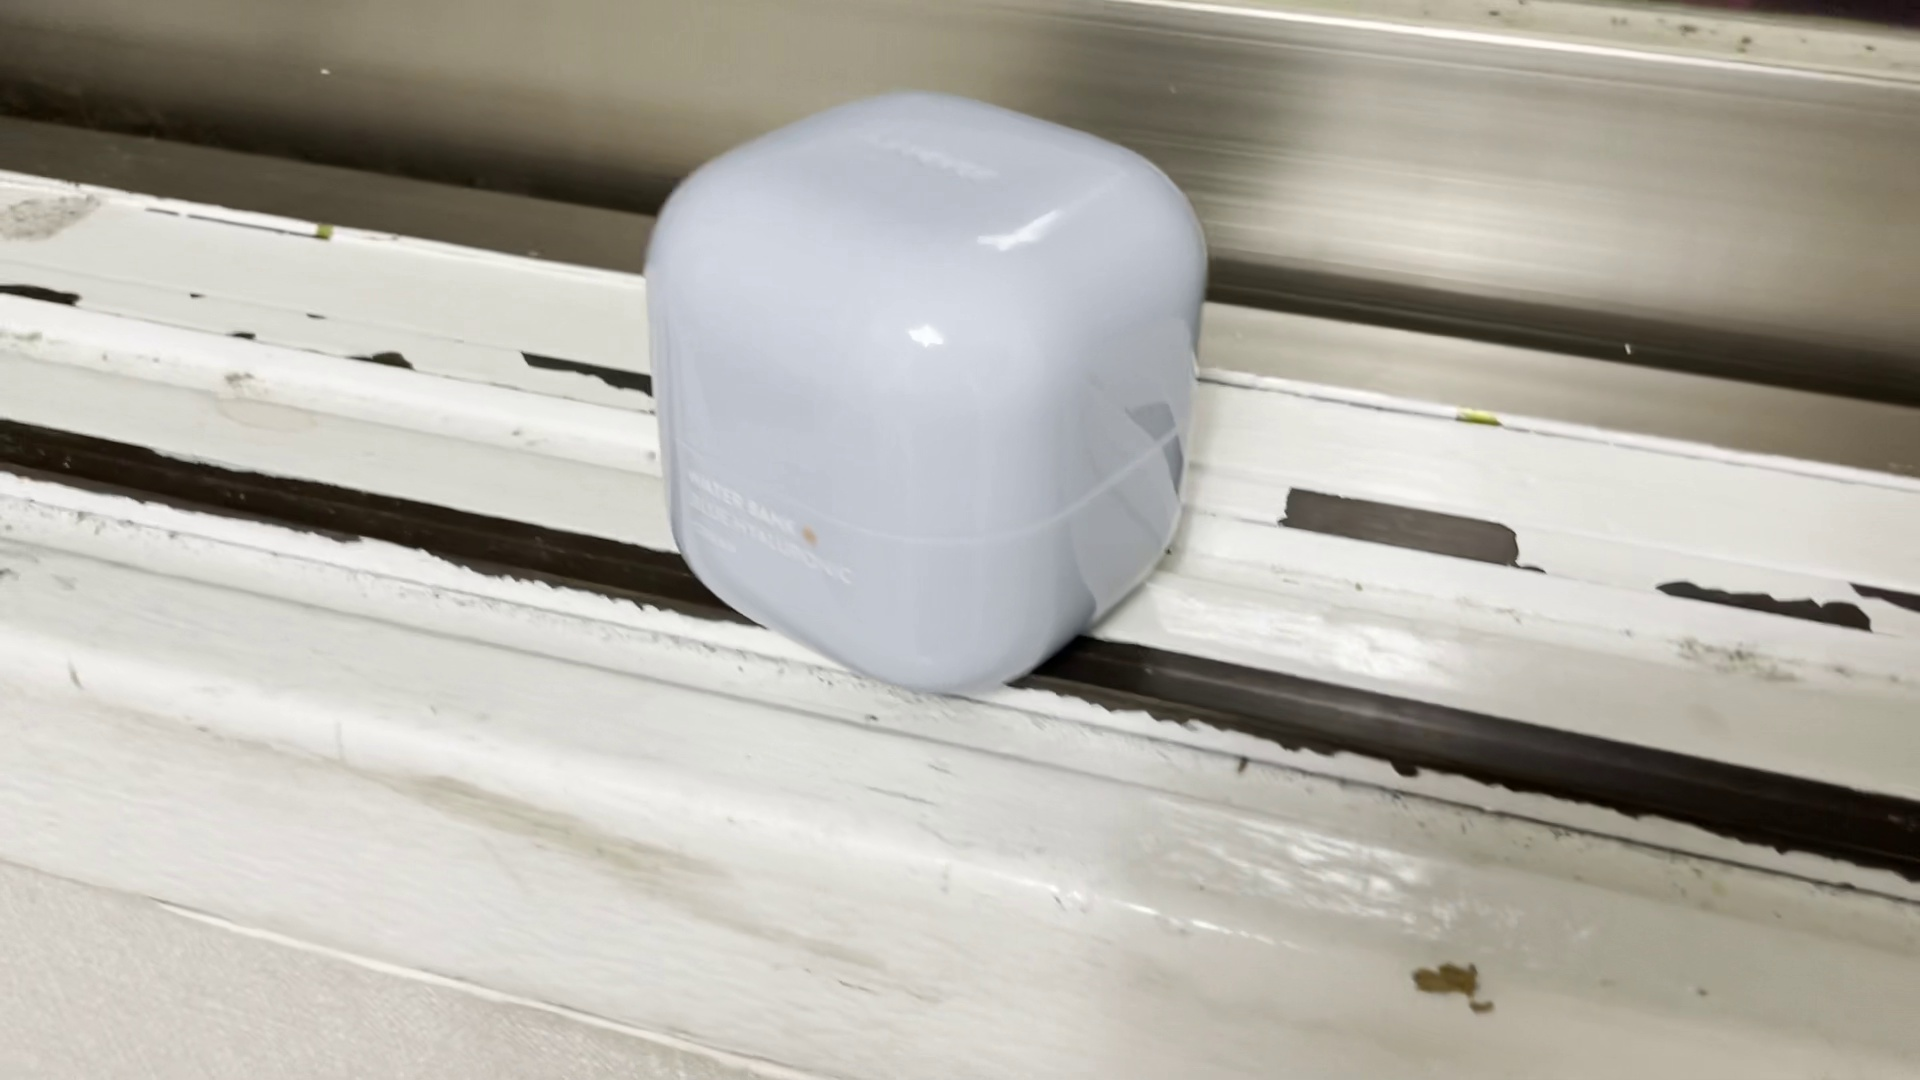cream: (644, 86, 1203, 688)
